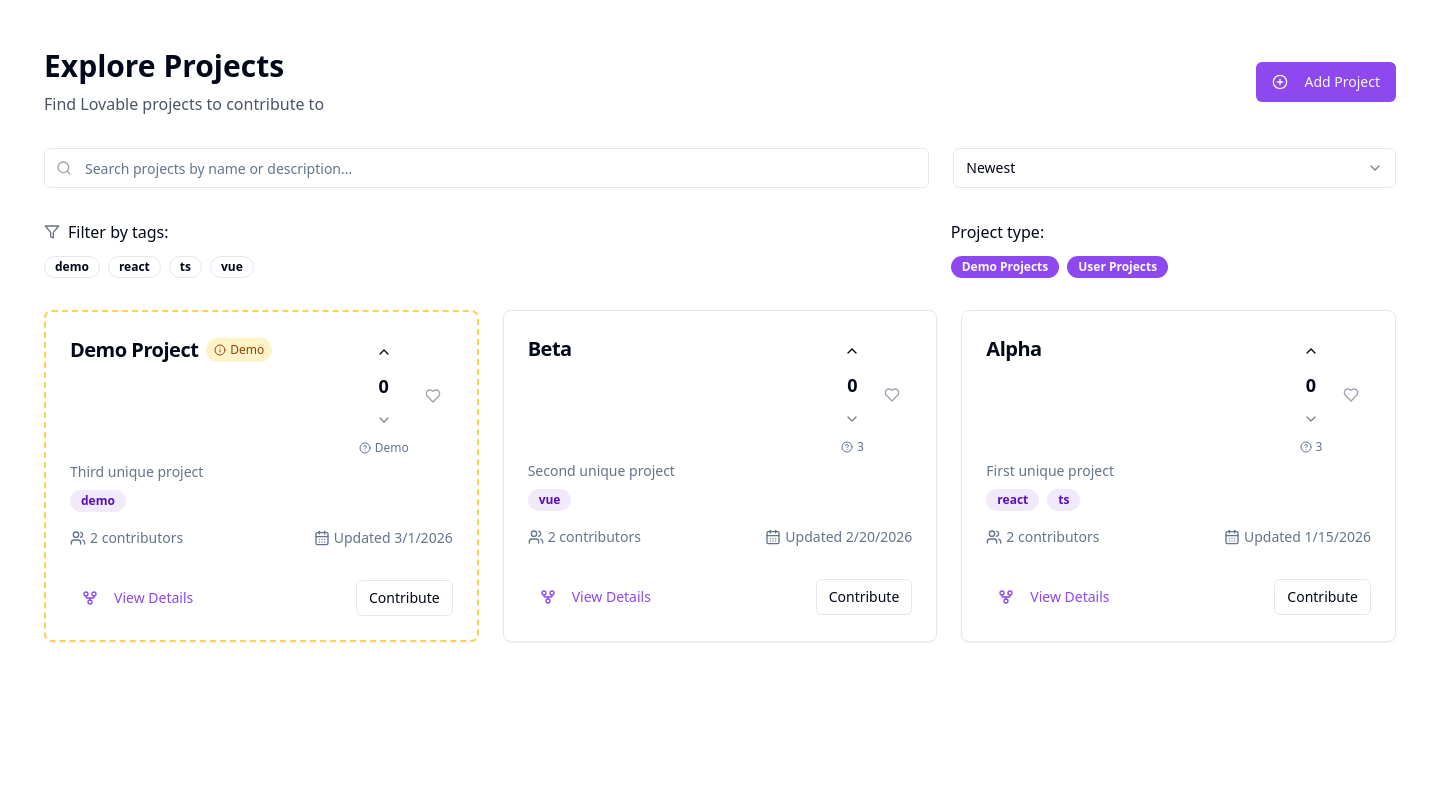
Projects page › filters by search query matching project name
Check: the link "Alpha" is shown, box [986,335,1042,362]
Type "Alpha" into the field with placeholder "Search projects by name or description..." at (487, 168), box [44,148,929,188]
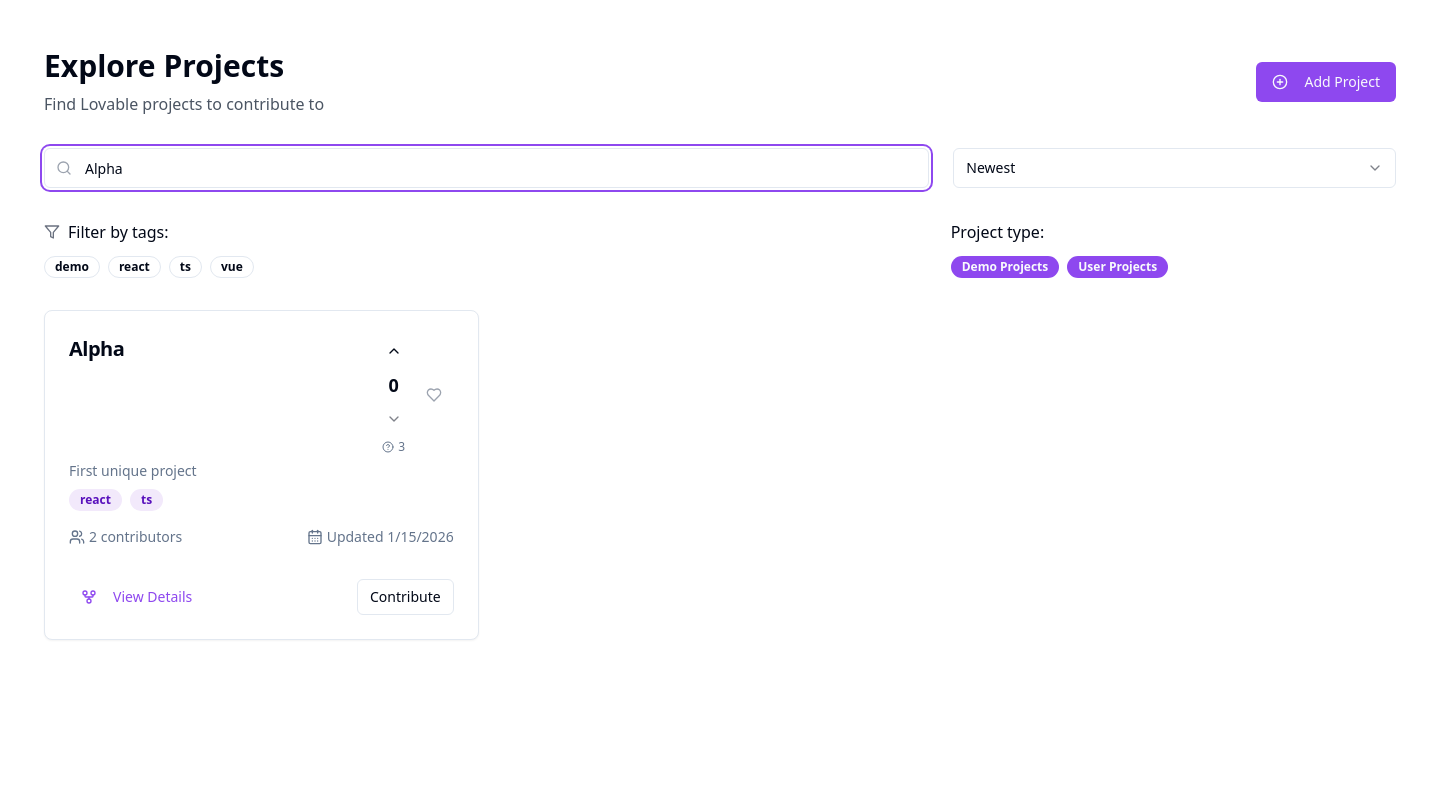
Check: the link "Alpha" is shown, box [69,335,124,362]
Check: the link "Beta" is gone
